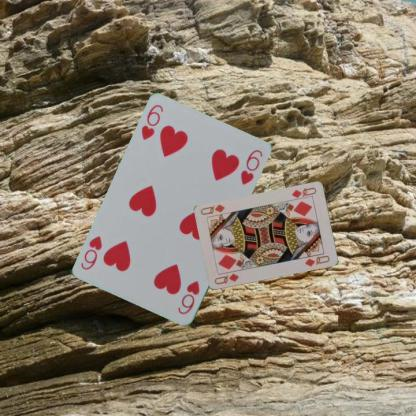6h: (138, 102, 164, 142), (175, 278, 201, 316)
Qd: (288, 185, 318, 202), (211, 271, 240, 286)
